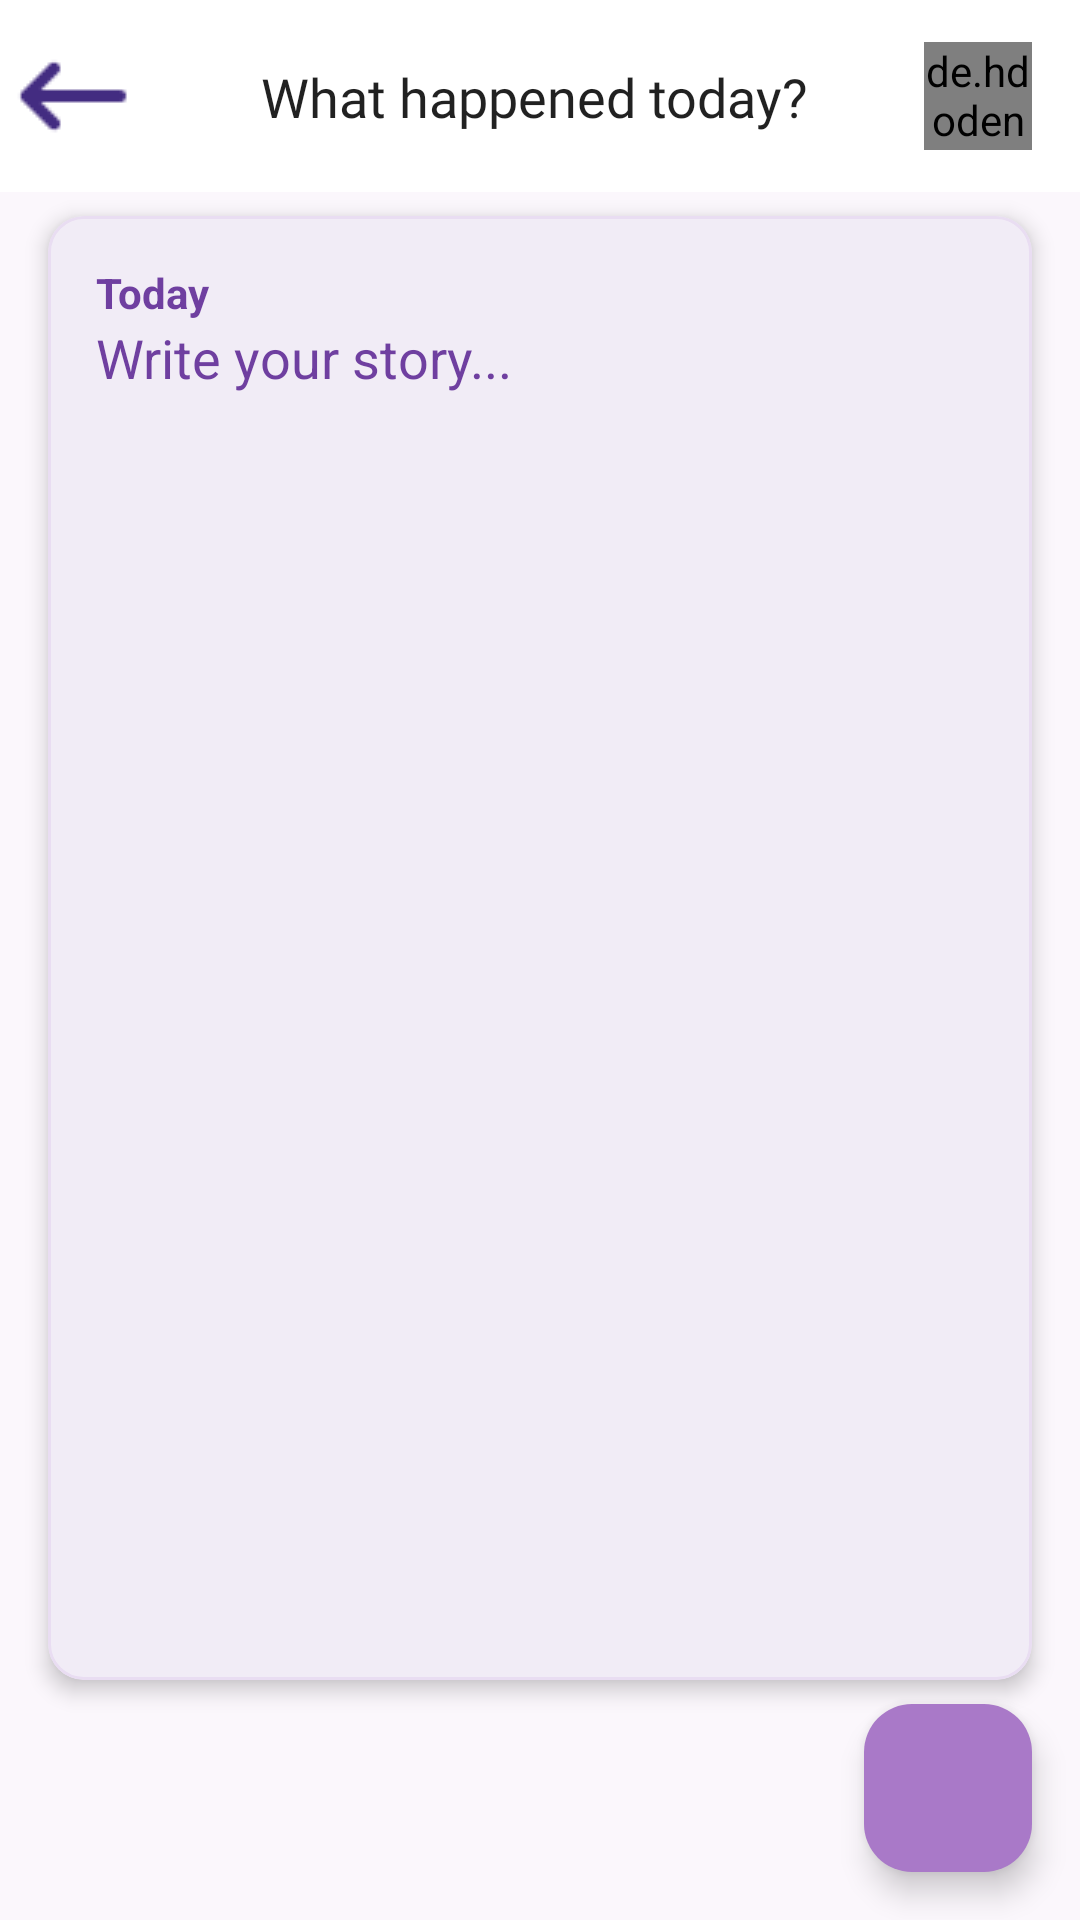

Icons on this 1080px×1920px Android screen, each with the point to tap as point (x, y):
back: point (73, 96)
